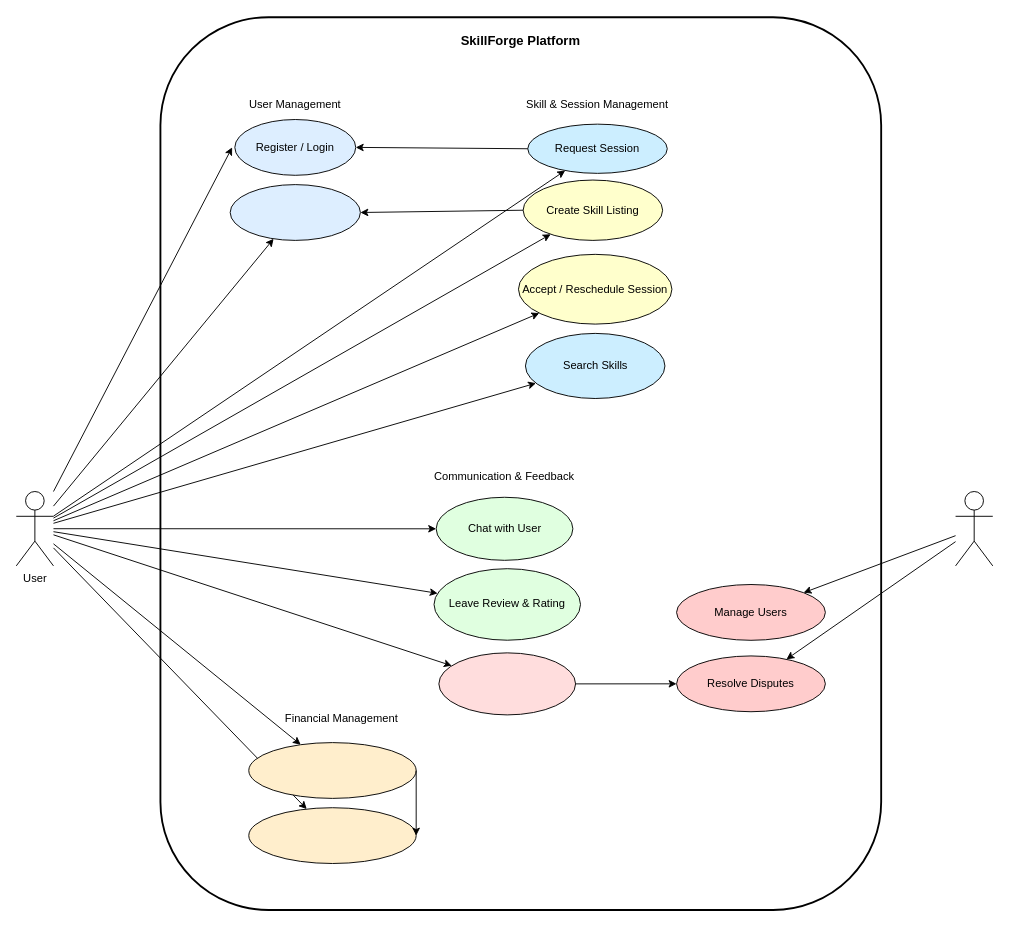
The diagram is 1009 pixels wide and 926 high, and some of its shapes have lost their labels. Each missing label, with the centre of its shape:
"Admin" belongs at pixel 974 528.
"Initiate Dispute" belongs at pixel 507 683.
"Manage Profile" belongs at pixel 294 212.
"Manage Wallet & Credits" belongs at pixel 332 835.
"Pay for Session" belongs at pixel 332 770.
